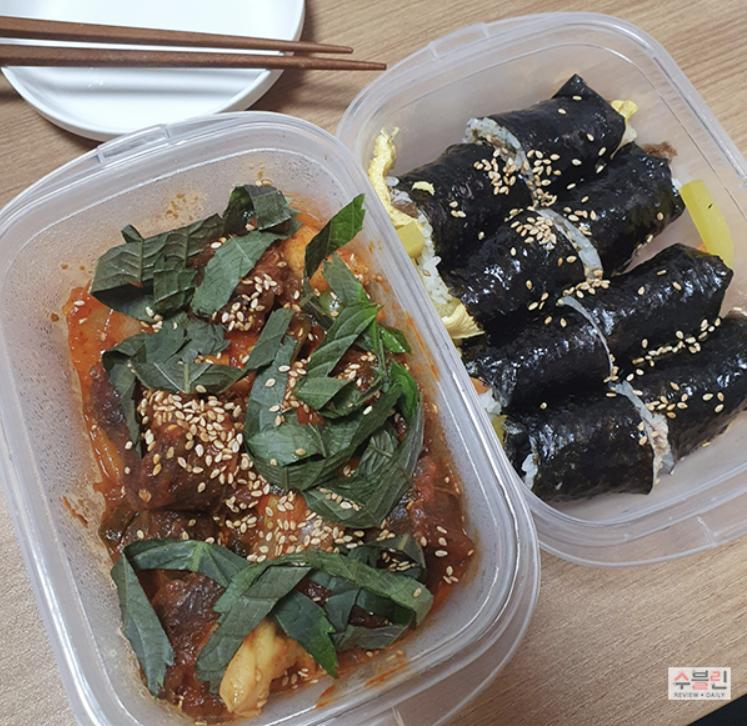Lunch Box: (0, 113, 539, 725), (336, 13, 746, 566)
